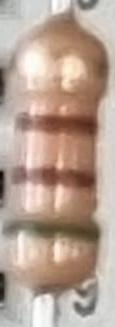Brown: (10, 162, 95, 191), (14, 110, 97, 138)
Green: (0, 214, 101, 247)
Side-Silver: (15, 57, 108, 81)
